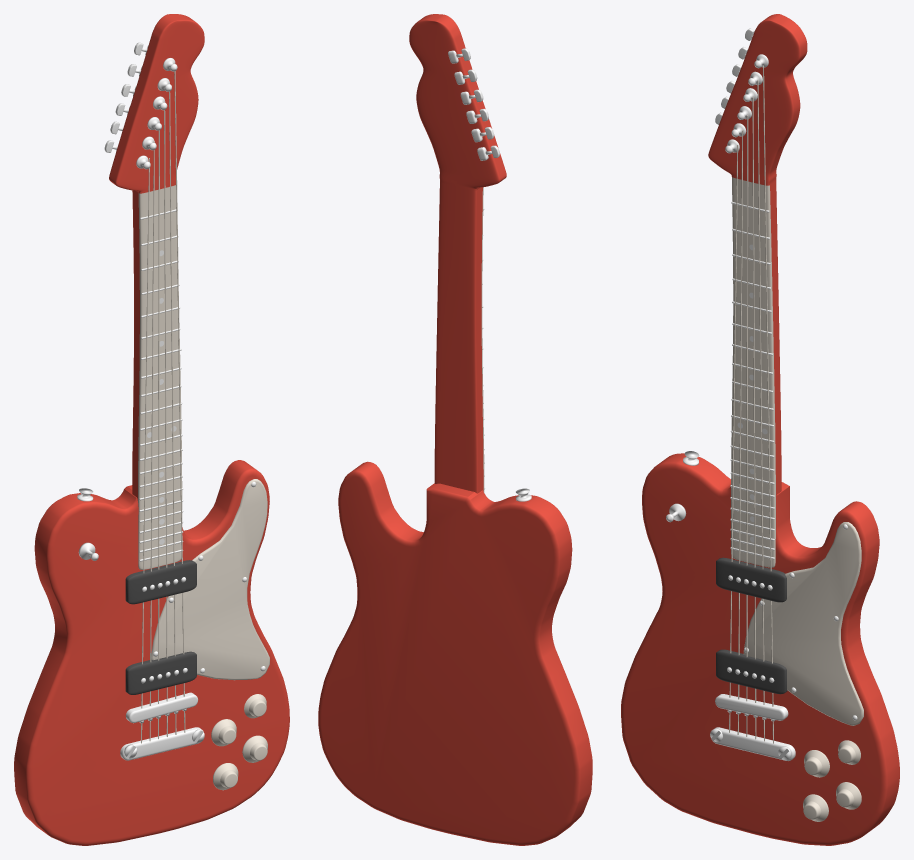
File: jim-atkins.glb
3 views of the same model, side by side, from view 1: azimuth 30°, elevation 25°; view 2: azimuth 150°, elevation 25°; view 3: azimuth 330°, elevation 25° (orthographic).
Visible parts, largest first — view 1: Vert, Cube, Vert.003, Cube.026, Circle, Cube.001, Cube.002, Cube.004, Cylinder.005, Cube.003, Cylinder.004, Cylinder.002 (+3 smaller); view 2: Vert, Cube, Cube.026; view 3: Vert, Cube, Vert.003, Cube.026, Circle, Cube.001, Cube.002, Cube.004, Cylinder.005, Cube.003, Cylinder.004, Cylinder.003 (+3 smaller).
Part boxes in pixels (left/top/right/bottom): Vert: left=14, top=460, right=289, bottom=845; Cube: left=132, top=185, right=182, bottom=569; Vert.003: left=151, top=479, right=269, bottom=680; Cube.026: left=109, top=14, right=204, bottom=193; Circle: left=211, top=694, right=267, bottom=790; Cube.001: left=125, top=560, right=196, bottom=604; Cube.002: left=125, top=651, right=196, bottom=694; Cube.004: left=120, top=727, right=203, bottom=760; Cylinder.005: left=174, top=71, right=185, bottom=732; Cube.003: left=125, top=692, right=198, bottom=723; Cylinder.004: left=169, top=91, right=176, bottom=734; Cylinder.002: left=158, top=130, right=159, bottom=739; Vert: left=318, top=461, right=592, bottom=845; Cube: left=434, top=182, right=484, bottom=493; Cube.026: left=409, top=14, right=506, bottom=190; Vert: left=621, top=453, right=899, bottom=845; Cube: left=731, top=177, right=781, bottom=567; Vert.003: left=743, top=522, right=863, bottom=725; Cube.026: left=708, top=14, right=807, bottom=185; Circle: left=803, top=740, right=861, bottom=821; Cube.001: left=716, top=557, right=786, bottom=602; Cube.002: left=716, top=649, right=787, bottom=694; Cube.004: left=711, top=727, right=795, bottom=760; Cylinder.005: left=763, top=65, right=773, bottom=743; Cube.003: left=715, top=694, right=788, bottom=720; Cylinder.004: left=757, top=80, right=764, bottom=741; Cylinder.003: left=752, top=97, right=756, bottom=739.
Size of the model in its own units: 1.74 by 5.1 by 0.2898.
